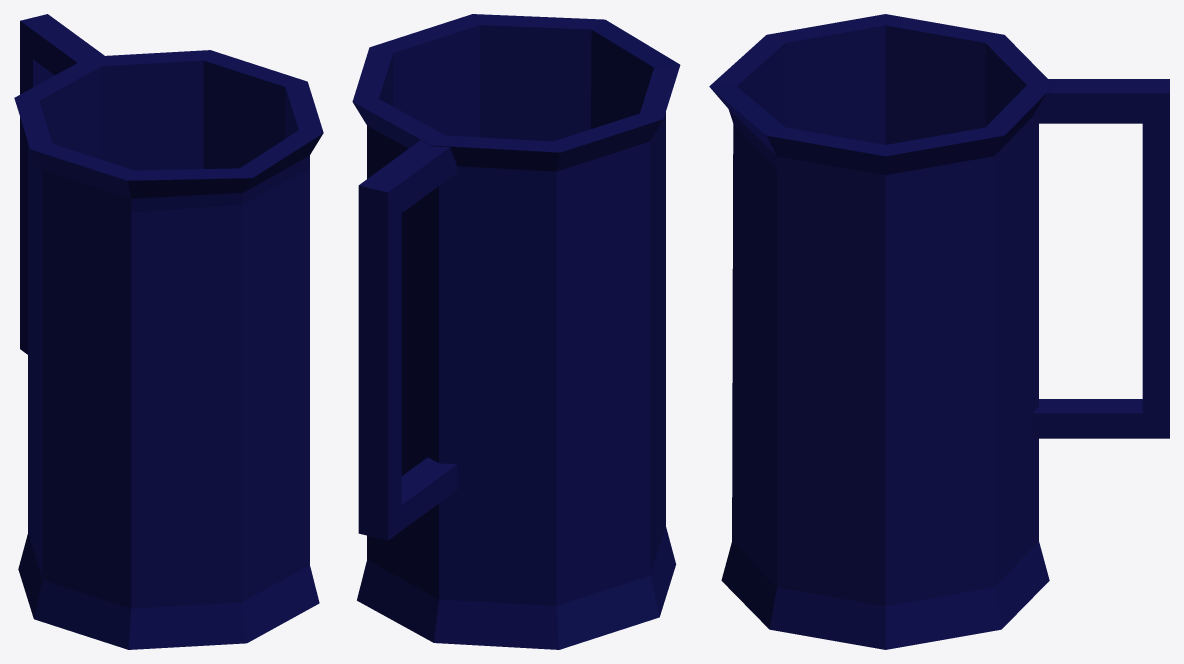
Rendered from Cup_02.fbx.
3 views of the same model, side by side, from view 1: azimuth 30°, elevation 25°; view 2: azimuth 150°, elevation 25°; view 3: azimuth 270°, elevation 25° (orthographic). The views are drawn at different scales.
Parts seen in each view (by area): view 1: Cup_02; view 2: Cup_02; view 3: Cup_02.
Boxes of the visible parts, x1=… form: Cup_02: x1=14, y1=14, x2=323, y2=649; Cup_02: x1=352, y1=14, x2=680, y2=649; Cup_02: x1=709, y1=14, x2=1169, y2=649.
Bounding box in the file's own units: 16.29 × 26.43 × 22.27.
